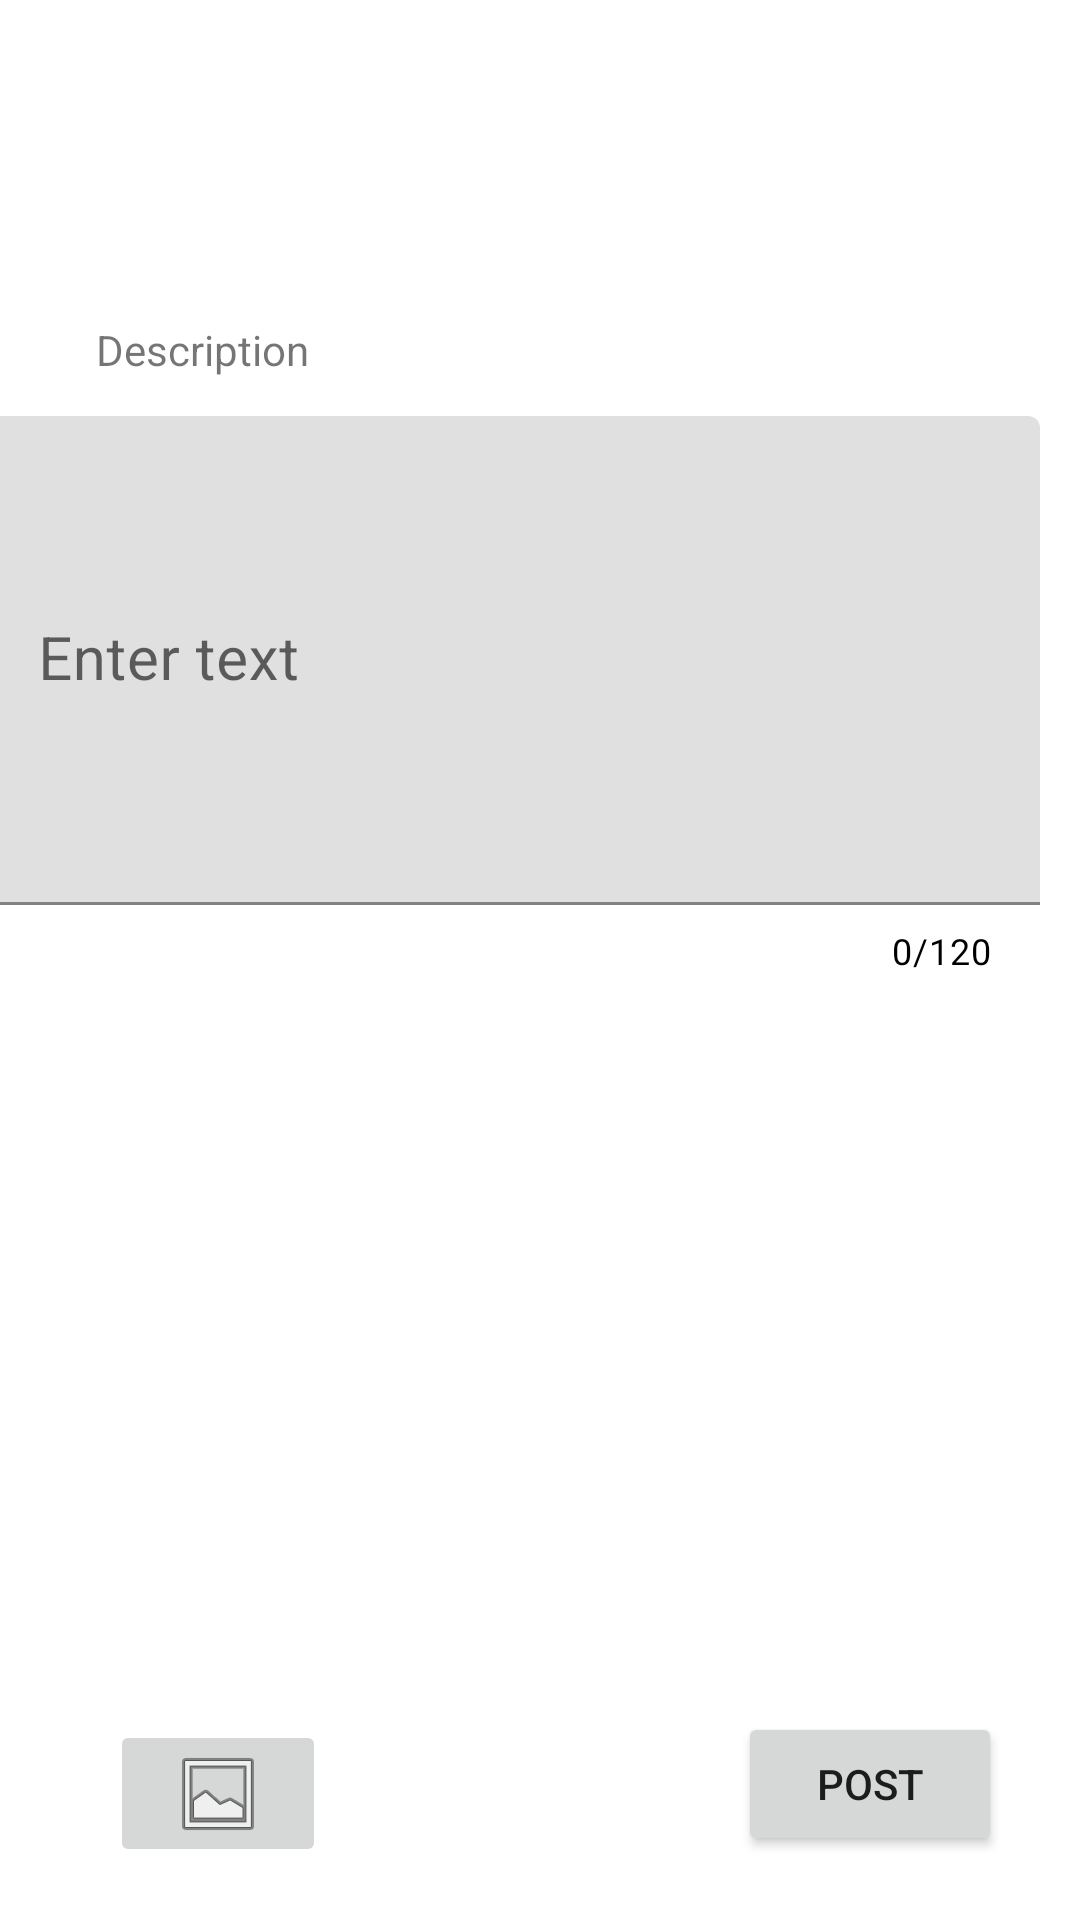

Where to tap for icons on this 1080 x 1920 app screen, as point (x, y):
gallery: point (218, 1793)
